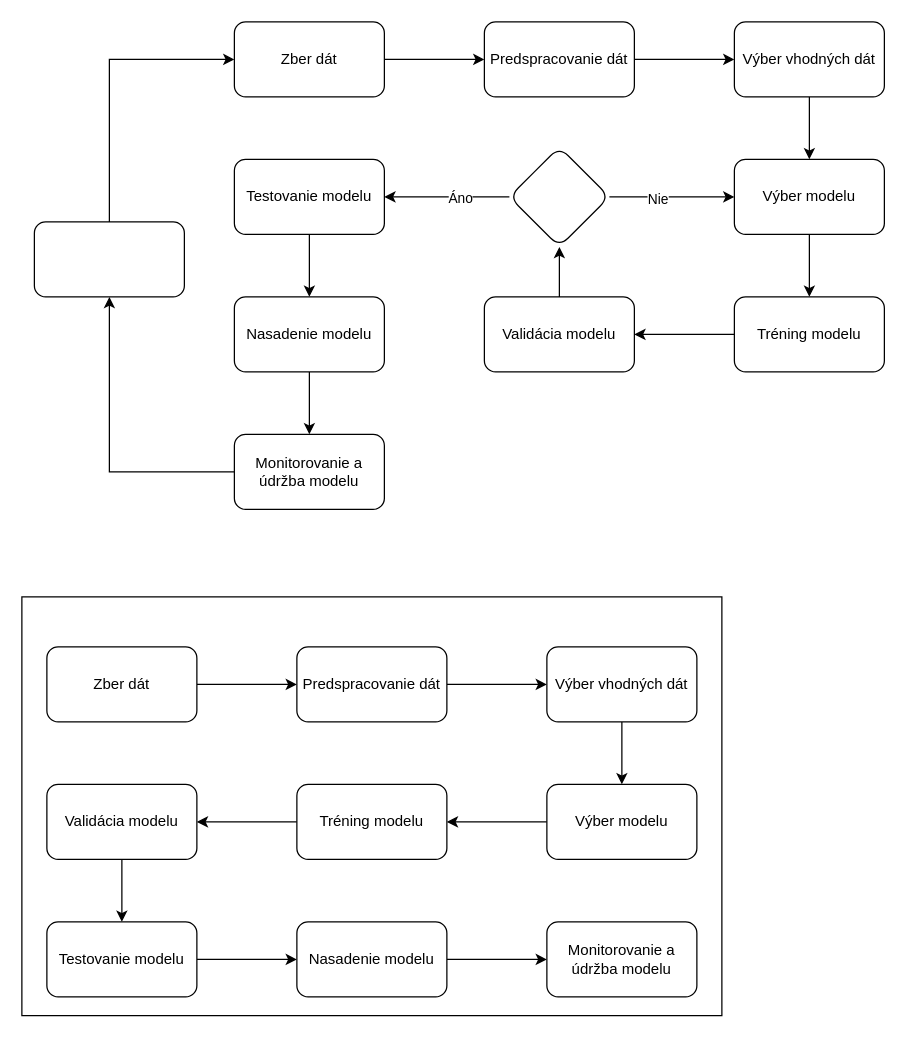
Some shapes in this 906 by 1038 pixel diagram are drawn without their labels. Each missing label, with the box of its shape:
Definovanie problému: (33, 221, 184, 297)
Úspešná validácia?: (508, 146, 609, 247)
